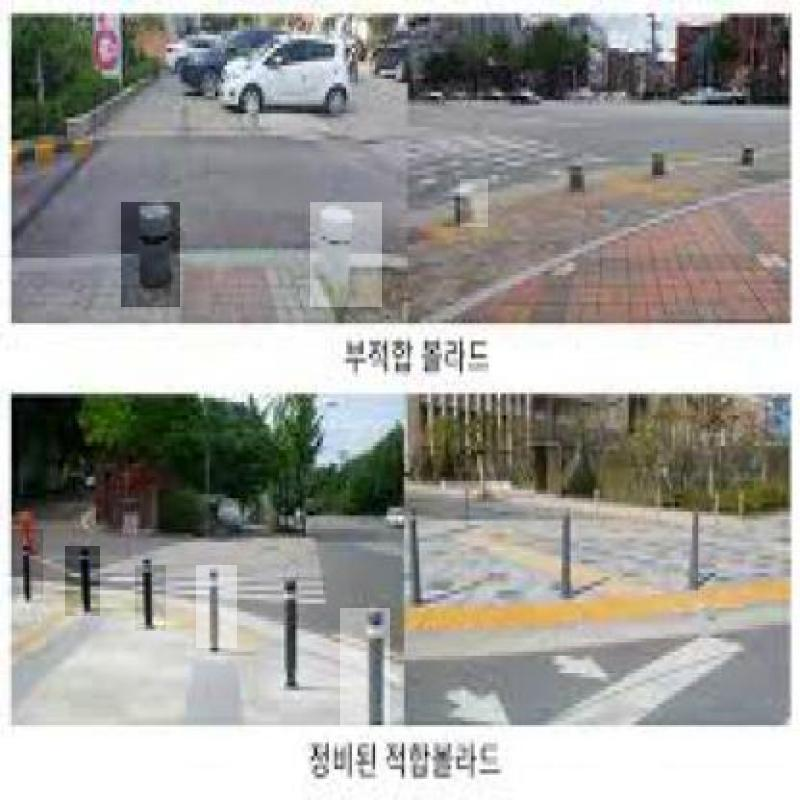bolard: (310, 202, 382, 307), (340, 608, 390, 734), (121, 202, 180, 307), (260, 573, 306, 695), (196, 565, 237, 648), (6, 529, 43, 603), (65, 546, 100, 616), (135, 565, 166, 631), (460, 179, 488, 227)
